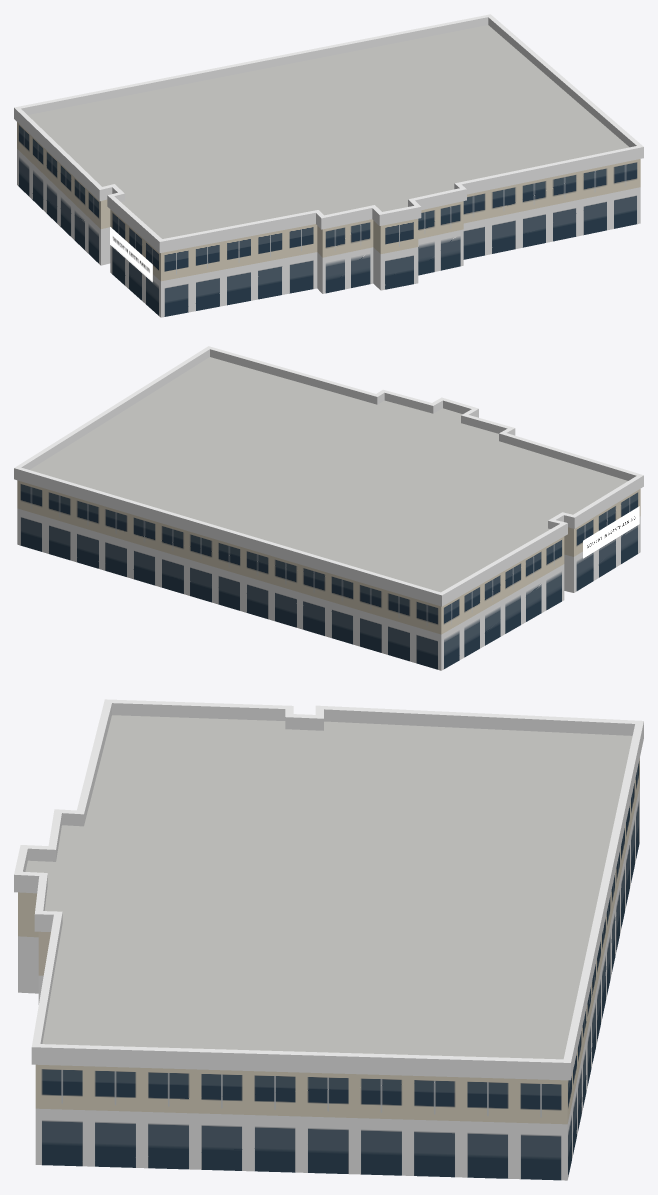
The model's file is courthouse.glb.
3 renders of one model, top to bottom at view 1: azimuth 30°, elevation 25°; view 2: azimuth 150°, elevation 25°; view 3: azimuth 270°, elevation 25°, orthographic. The views are drawn at different scales.
Visible parts, largest first — view 1: courthouse_lod0; view 2: courthouse_lod0; view 3: courthouse_lod0.
Part boxes in pixels (x1,y1,x2,y2): courthouse_lod0: (14, 14, 643, 317); courthouse_lod0: (14, 346, 643, 670); courthouse_lod0: (14, 699, 643, 1180).
Size of what is drawn, in the model's own units: 58.38 by 8.9 by 42.64.
5 materials, 3 textured.
